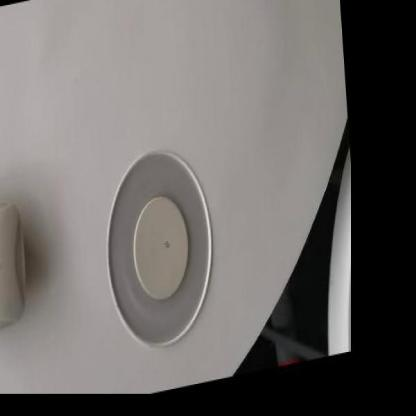light_off: (91, 92, 230, 382)
